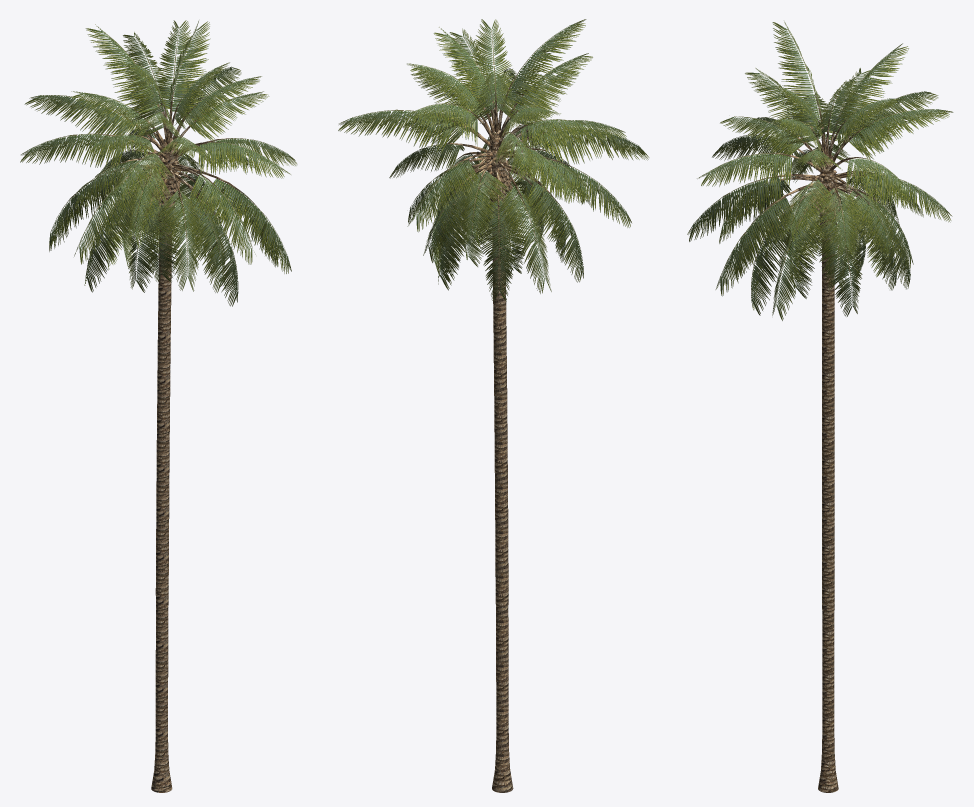
File: Palm_1_2.fbx
3 views of the same model, side by side, from view 1: azimuth 30°, elevation 25°; view 2: azimuth 150°, elevation 25°; view 3: azimuth 270°, elevation 25° (orthographic). The views are drawn at different scales.
Parts seen in each view (by area): view 1: Palm_1_2; view 2: Palm_1_2; view 3: Palm_1_2.
Part boxes in pixels (x1,y1,x2,y2): Palm_1_2: [20, 20, 297, 792]; Palm_1_2: [338, 19, 649, 792]; Palm_1_2: [687, 21, 953, 792].
Bounding box in the file's own units: 619 × 1857 × 626.
